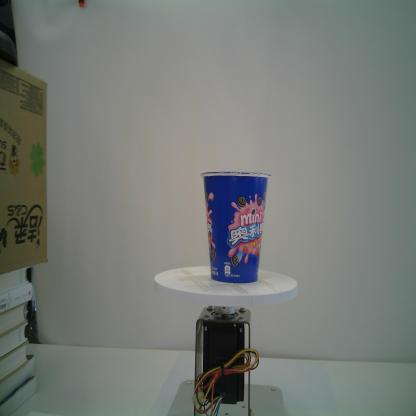Dessert: (200, 171, 271, 284)
